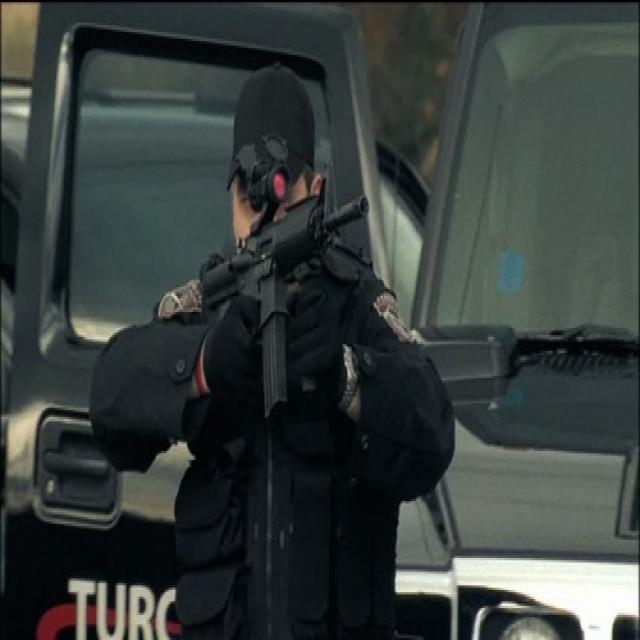rifle: (164, 127, 376, 440)
